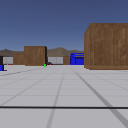blue_basket: (70, 53, 84, 65)
blue_cube: (1, 65, 5, 71)
green_cube: (44, 64, 46, 67)
obstacle: (84, 23, 128, 70), (24, 46, 47, 65), (13, 53, 24, 65)
